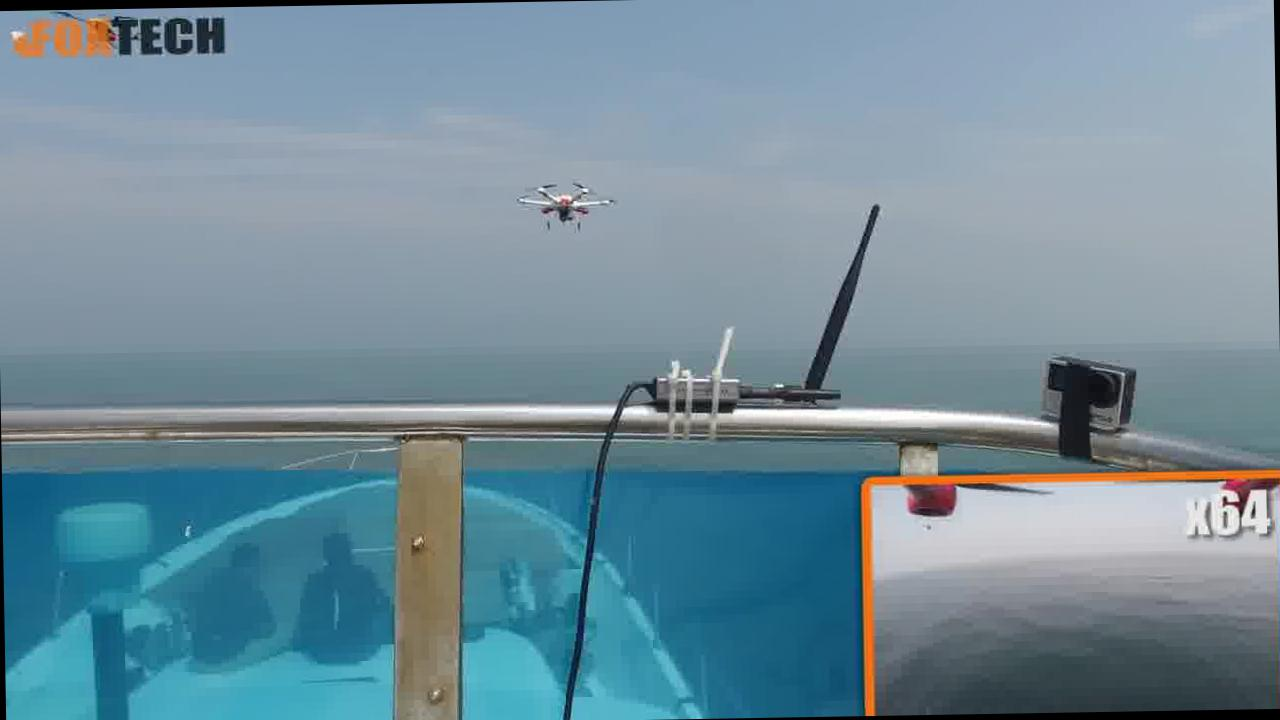drone: (502, 173, 632, 236)
